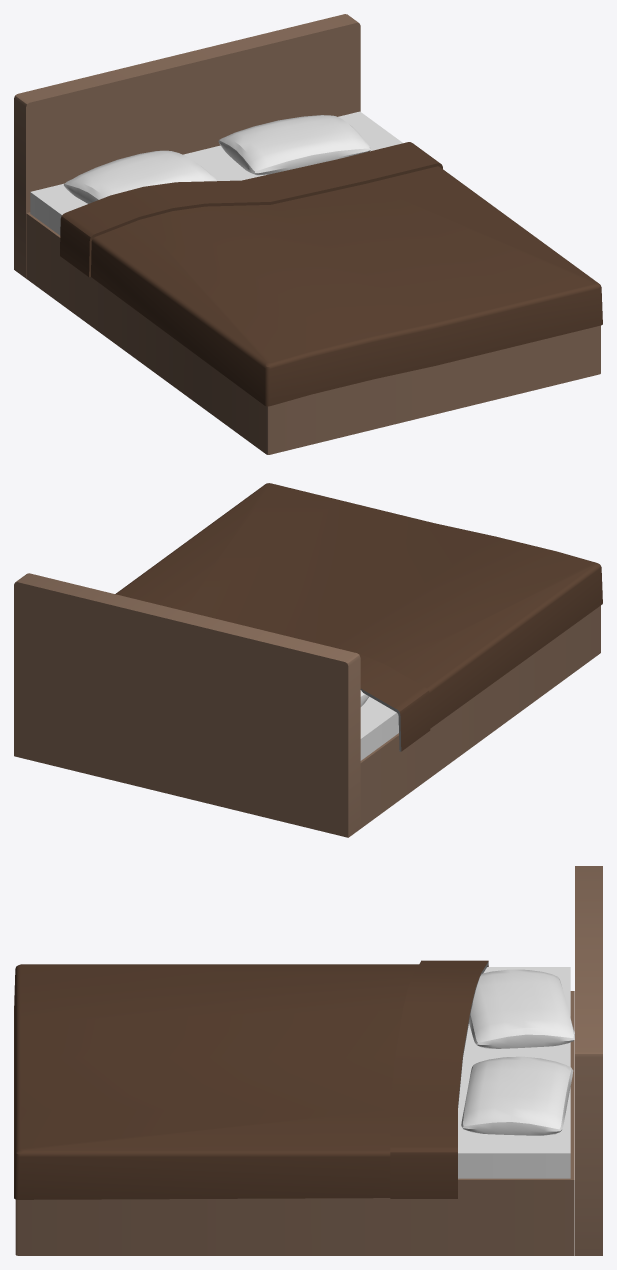
The model's file is Bed1_C2.fbx.
The picture shows the model from 3 angles, top to bottom: view 1: azimuth 30°, elevation 25°; view 2: azimuth 150°, elevation 25°; view 3: azimuth 270°, elevation 25°; orthographic projection. The views are drawn at different scales.
Visible parts, largest first — view 1: Bed1_C2; view 2: Bed1_C2; view 3: Bed1_C2.
Part boxes in pixels (bbox=[...]): Bed1_C2: bbox=[14, 14, 602, 454]; Bed1_C2: bbox=[14, 483, 602, 837]; Bed1_C2: bbox=[14, 866, 602, 1255].
Bounding box in the file's own units: 163 × 80 × 211.
